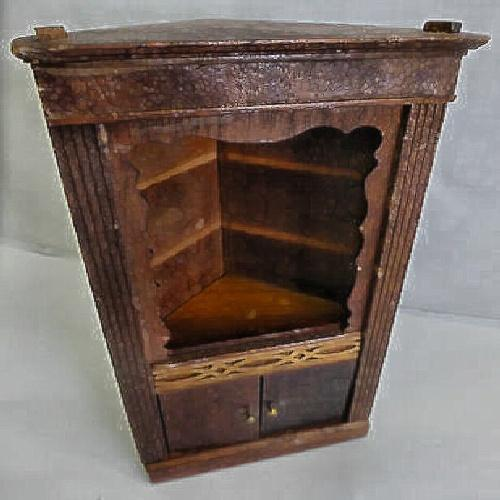cabinet: (46, 20, 448, 455)
